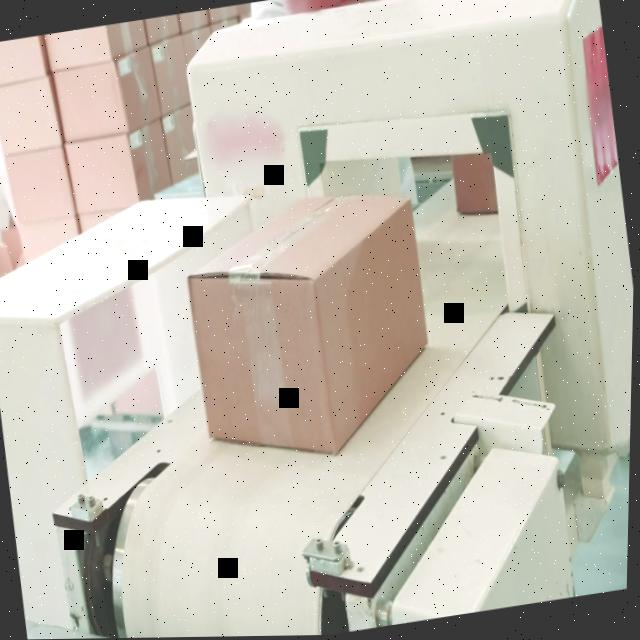box: (173, 175, 451, 477)
